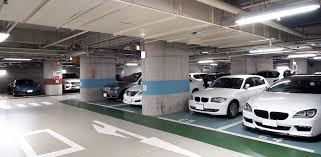car: (241, 71, 321, 146), (188, 73, 267, 119), (8, 75, 44, 98), (99, 71, 124, 103), (123, 79, 142, 107), (63, 70, 81, 96)
